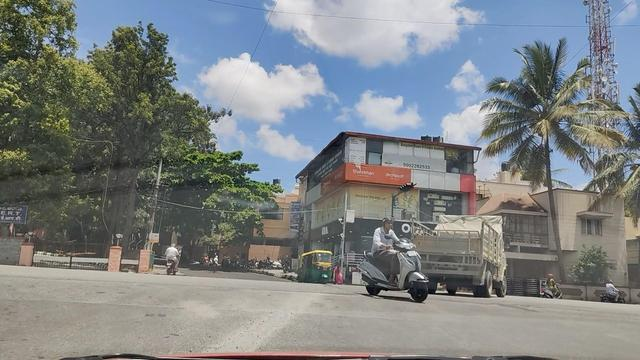HMV: (426, 212, 509, 290)
LMV: (361, 220, 428, 293)
RoadDamages: (217, 304, 325, 360)
